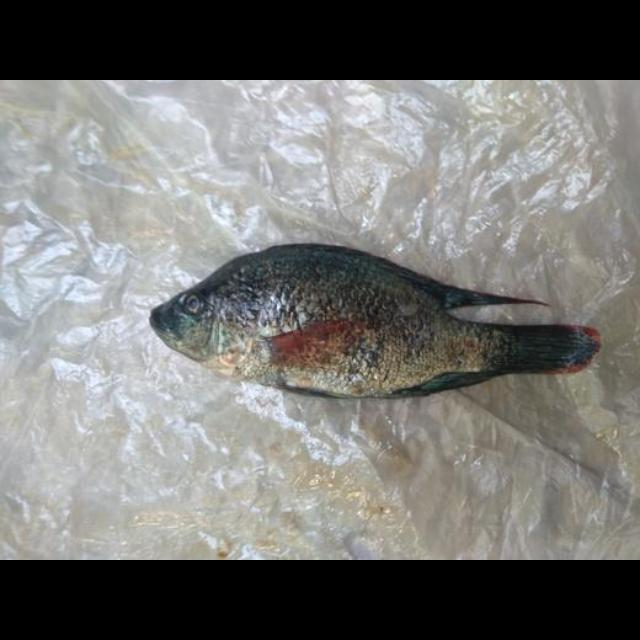Tilapia: (145, 242, 600, 400)
